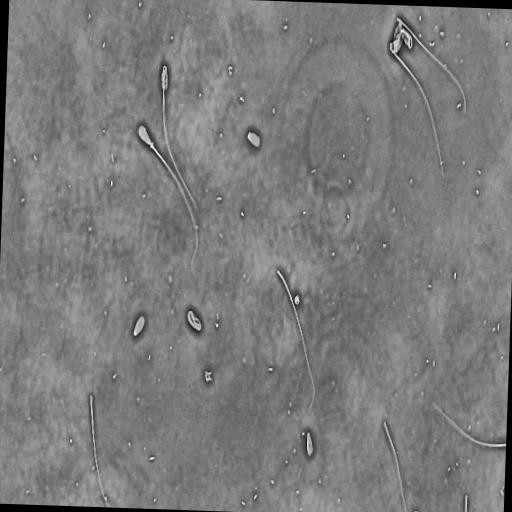coiled-tail: (399, 28, 414, 50), (187, 311, 201, 330)
dirt-particles: (203, 366, 213, 383), (292, 292, 300, 306)
folded-tail: (162, 66, 197, 208)
loose-head: (131, 311, 146, 338), (246, 128, 261, 149), (305, 429, 314, 459), (393, 31, 403, 54)
loose-tail: (275, 264, 317, 413), (432, 399, 505, 451), (88, 389, 110, 507), (382, 414, 408, 512)
normal: (135, 124, 198, 274), (387, 38, 444, 183), (392, 16, 466, 118), (159, 59, 199, 212), (185, 306, 203, 334)
proximal-droplet: (149, 141, 153, 148)
